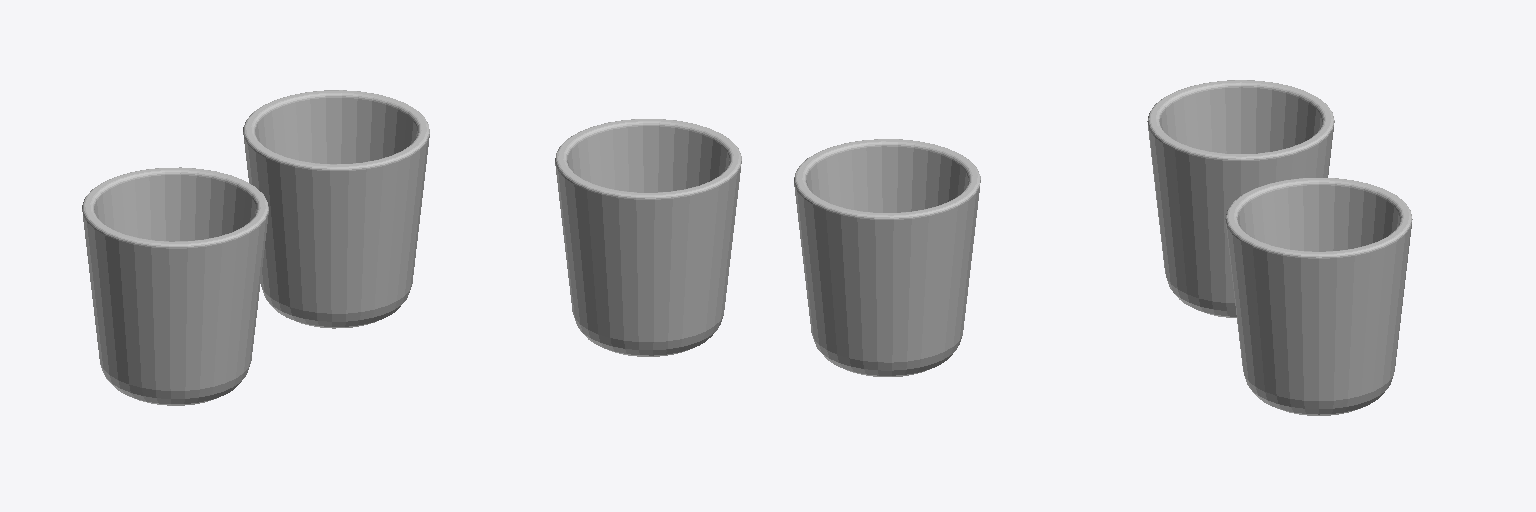
Rendered from mug.obj.
3 renders of one model, left to right at view 1: azimuth 30°, elevation 25°; view 2: azimuth 150°, elevation 25°; view 3: azimuth 270°, elevation 25°, orthographic.
Visible parts, largest first — view 1: Mug.001, Mug.002; view 2: Mug.001, Mug.002; view 3: Mug.002, Mug.001.
Boxes of the visible parts, x1,y1,x2,y2 form: Mug.001: [82, 167, 268, 405]; Mug.002: [243, 90, 429, 328]; Mug.001: [794, 139, 980, 376]; Mug.002: [555, 119, 741, 356]; Mug.002: [1225, 178, 1412, 415]; Mug.001: [1147, 80, 1334, 317].
Bounding box in the file's own units: 0.2663 × 0.1247 × 0.1689.